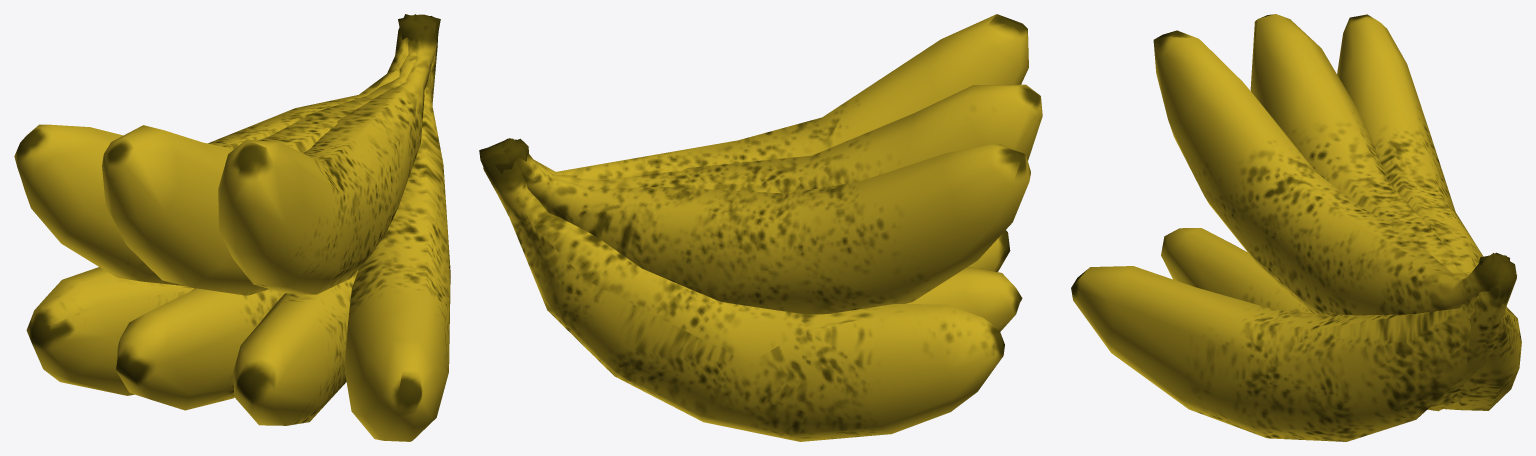
Rendered from banana.fbx.
3 views of the same model, side by side, from view 1: azimuth 30°, elevation 25°; view 2: azimuth 150°, elevation 25°; view 3: azimuth 270°, elevation 25° (orthographic). The views are drawn at different scales.
Parts seen in each view (by area): view 1: Banana_bunch__Banana_bunch__1001_Material #48_0; view 2: Banana_bunch__Banana_bunch__1001_Material #48_0; view 3: Banana_bunch__Banana_bunch__1001_Material #48_0.
Boxes of the visible parts, bbox=[...] form: Banana_bunch__Banana_bunch__1001_Material #48_0: bbox=[14, 14, 450, 441]; Banana_bunch__Banana_bunch__1001_Material #48_0: bbox=[479, 14, 1042, 441]; Banana_bunch__Banana_bunch__1001_Material #48_0: bbox=[1071, 14, 1521, 441].
Size of the model in its own units: 21.18 by 14.29 by 18.39.
1 material, 1 textured.
